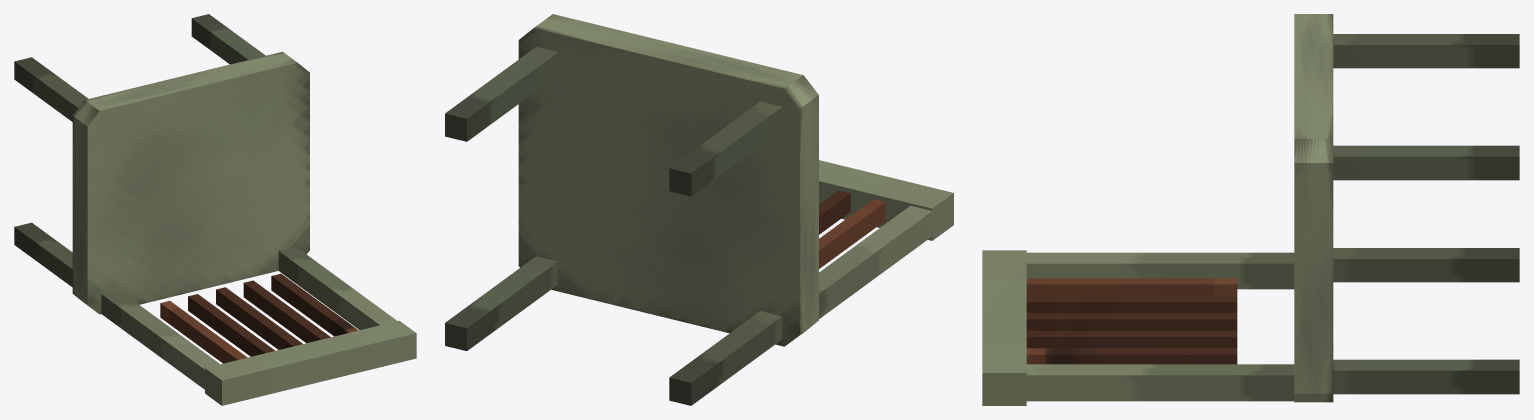
The model's file is pz_chair_seating_indoor_01_green_dinner.obj.
3 views of the same model, side by side, from view 1: azimuth 30°, elevation 25°; view 2: azimuth 150°, elevation 25°; view 3: azimuth 270°, elevation 25° (orthographic). The views are drawn at different scales.
Visible parts, largest first — view 1: root; view 2: root; view 3: root.
Boxes of the visible parts, box(x1,y1,x2,y2) form: root: box(14, 14, 416, 405); root: box(445, 14, 953, 405); root: box(982, 14, 1519, 405).
Bounding box in the file's own units: 0.64 × 0.57 × 1.03.
Materials: 1 (1 with a texture image).
